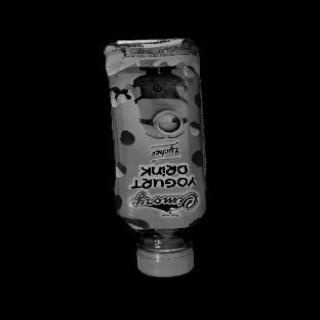plastic_bottles: (98, 32, 208, 279)
